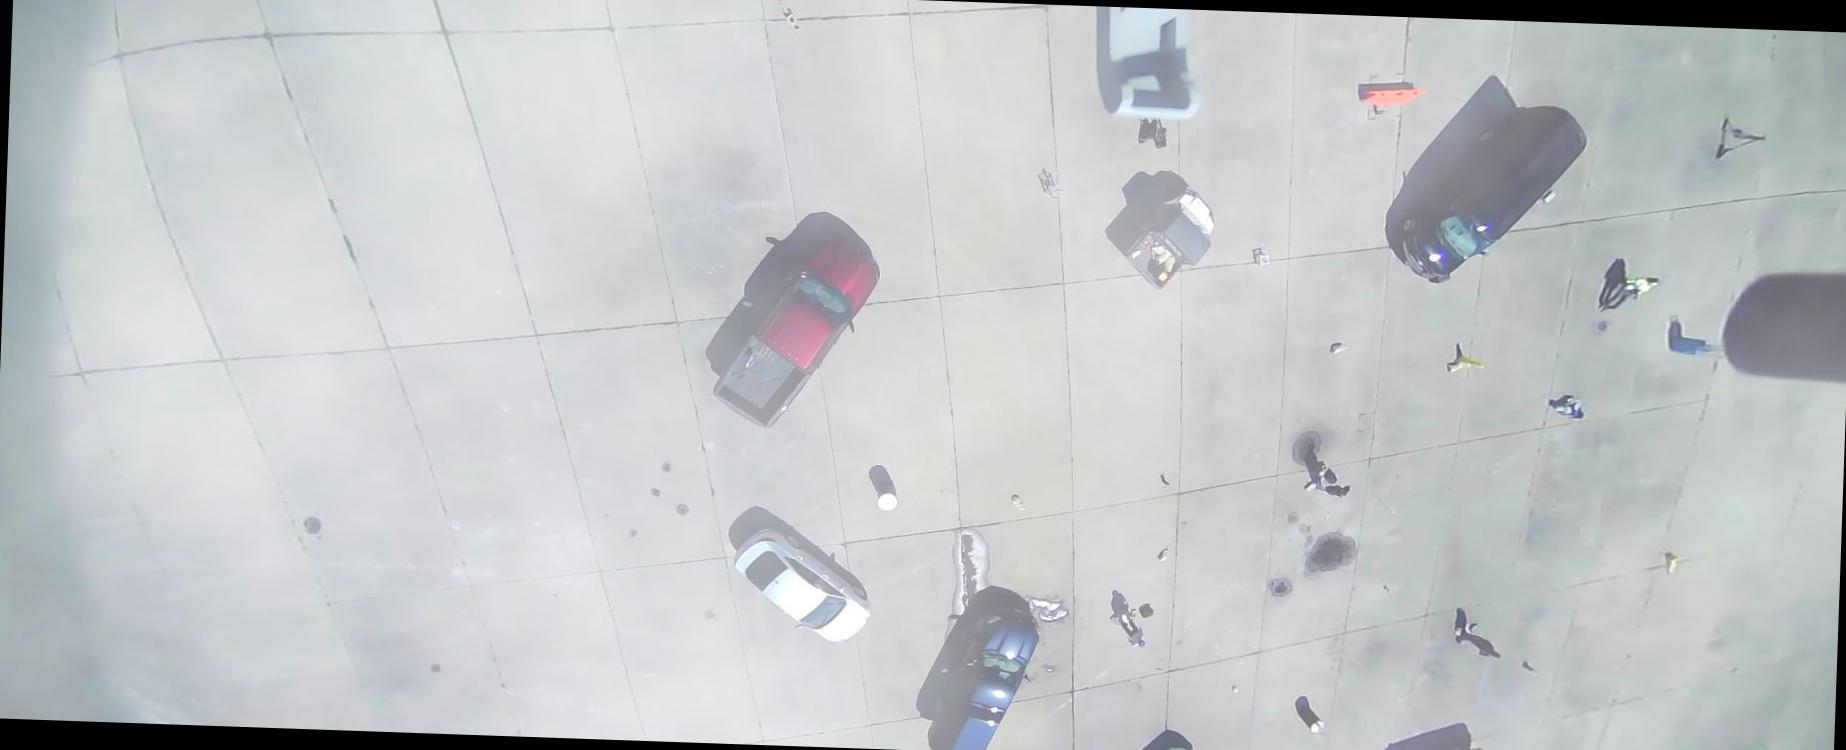vehicle: (1397, 99, 1588, 285), (709, 226, 881, 432), (729, 525, 872, 644), (928, 600, 1042, 749), (1121, 185, 1216, 292), (1379, 742, 1502, 749), (1148, 745, 1198, 749)
